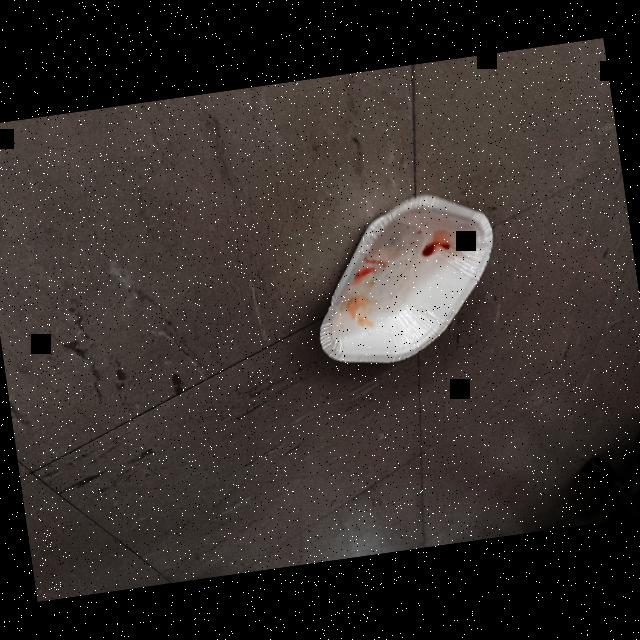cardboard_bowl: (285, 166, 538, 398)
